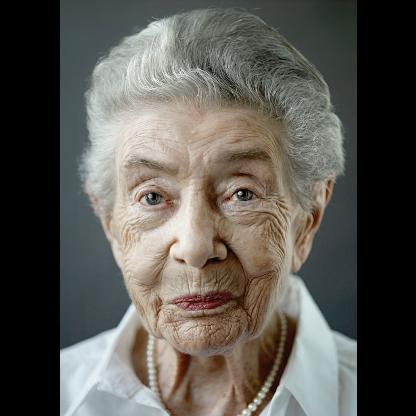Female: (87, 95, 332, 351)
